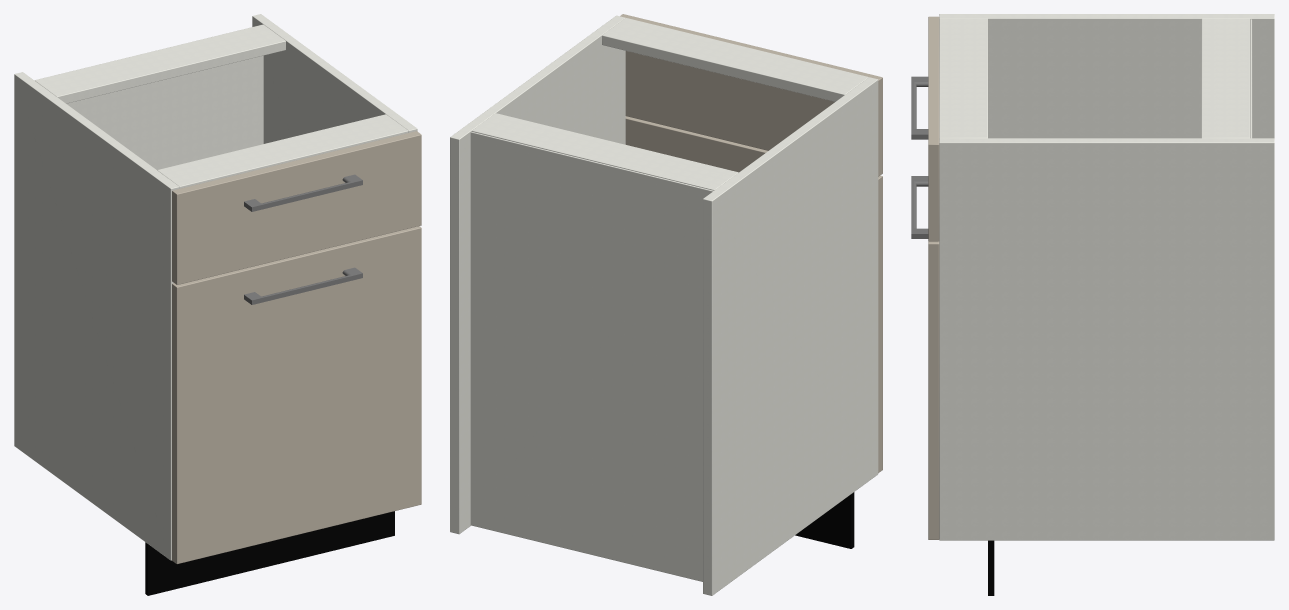
3 renders of one model, left to right at view 1: azimuth 30°, elevation 25°; view 2: azimuth 150°, elevation 25°; view 3: azimuth 270°, elevation 25°, orthographic. The views are drawn at different scales.
Parts seen in each view (by area): view 1: r14, Stranica Leva, Leđa, Stranica Desna, Vezna Zadnja H, Vezna Prednja H, Union (×2); view 2: Leđa, Stranica Leva, r14, Stranica Desna, Vezna Prednja H, Vezna Zadnja H; view 3: Stranica Desna, Stranica Leva, r14, Vezna Zadnja H, Vezna Prednja H, Union (×2).
Part boxes in pixels (x1,y1,x2,y2): r14: [145, 131, 421, 595]; Stranica Leva: [14, 72, 179, 560]; Leđa: [66, 55, 263, 169]; Stranica Desna: [252, 14, 417, 143]; Vezna Zadnja H: [35, 24, 285, 103]; Vezna Prednja H: [157, 114, 408, 188]; Union (×2): [244, 174, 362, 304]; Leđa: [470, 131, 713, 581]; Stranica Leva: [703, 77, 878, 595]; r14: [620, 14, 882, 548]; Stranica Desna: [450, 15, 625, 534]; Vezna Prednja H: [602, 18, 868, 101]; Vezna Zadnja H: [471, 113, 738, 190]; Stranica Desna: [939, 138, 1274, 540]; Stranica Leva: [939, 14, 1274, 138]; r14: [928, 16, 994, 595]; Vezna Zadnja H: [1201, 18, 1250, 138]; Vezna Prednja H: [939, 18, 987, 138]; Union (×2): [911, 76, 928, 238].
Size of the model in its own units: 0.5 by 0.82 by 0.596.
Materials: 4 (2 with a texture image).
